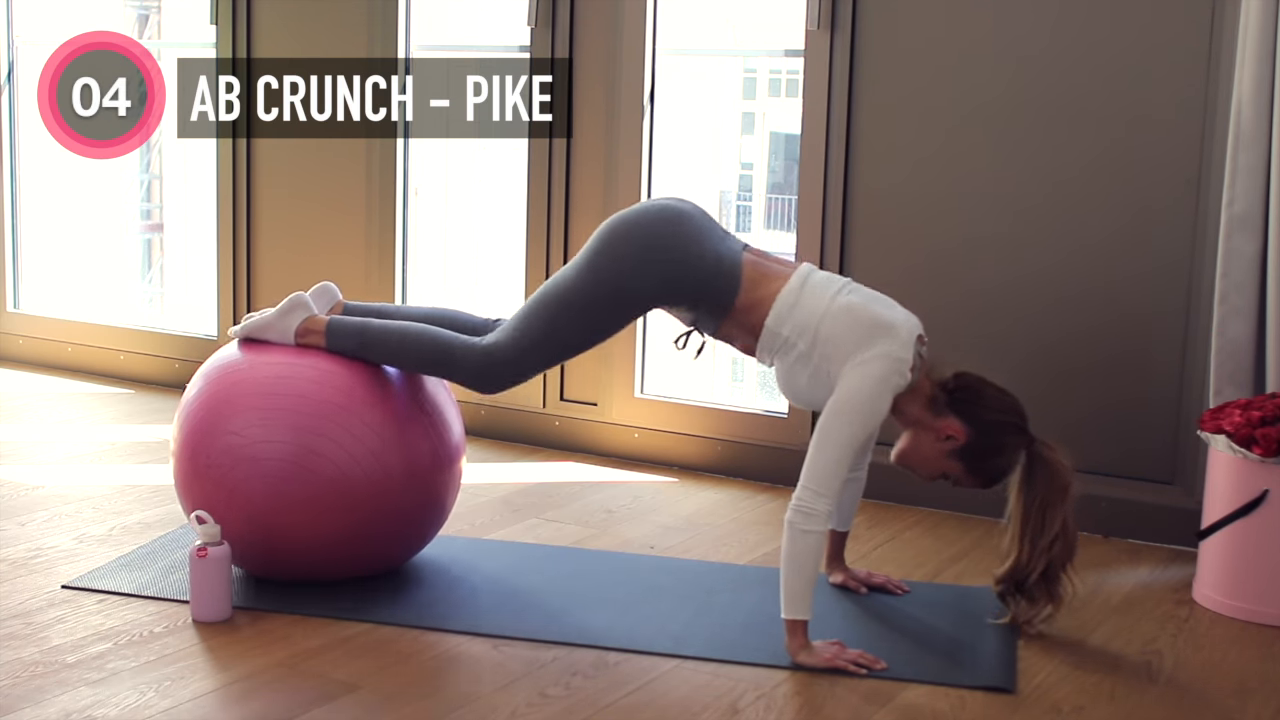yogaball: (163, 330, 476, 591)
